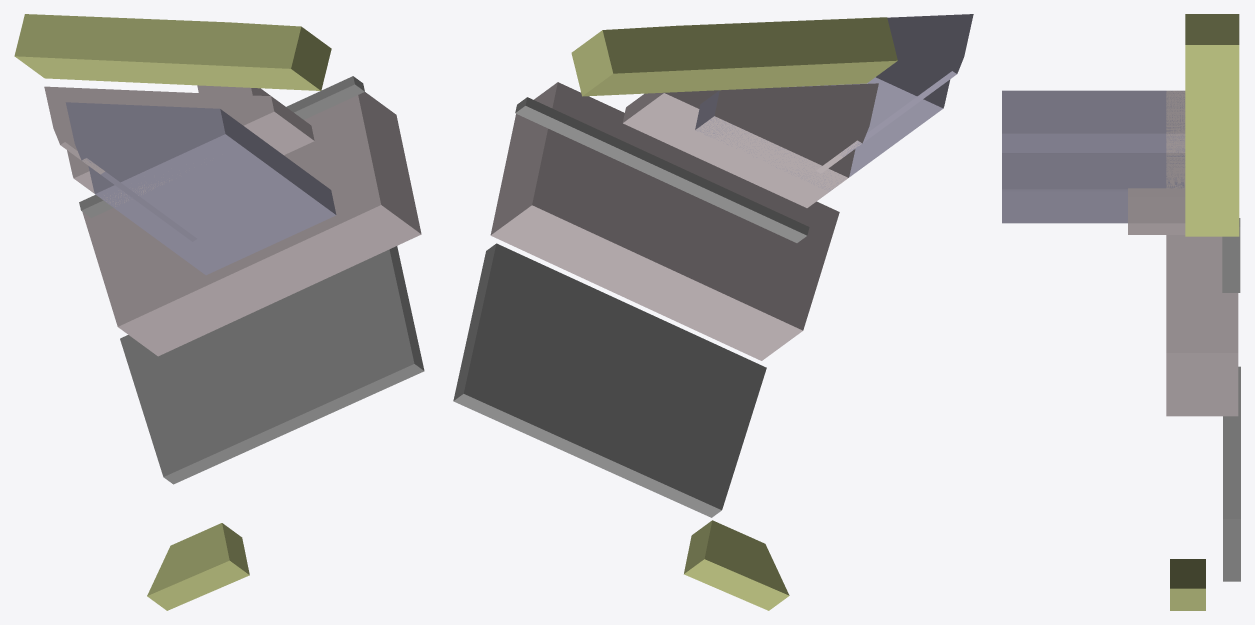
The picture shows the model from 3 angles, left to right: view 1: azimuth 30°, elevation 25°; view 2: azimuth 150°, elevation 25°; view 3: azimuth 270°, elevation 25°; orthographic projection. The views are drawn at different scales.
Visible parts, largest first — view 1: 0_1_3_2_1_2_3; view 2: 0_1_3_2_1_2_3; view 3: 0_1_3_2_1_2_3.
Boxes of the visible parts, x1,y1,x2,y2 form: 0_1_3_2_1_2_3: [14, 14, 424, 610]; 0_1_3_2_1_2_3: [453, 14, 973, 610]; 0_1_3_2_1_2_3: [1002, 14, 1240, 610].
Size of the model in its own units: 68.83 by 97.4 by 39.82.
